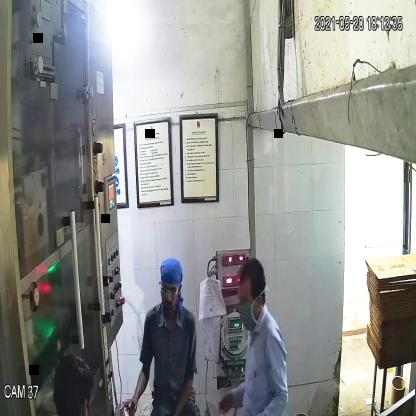goggles: (155, 278, 184, 301)
no_goggles: (236, 292, 258, 310)
